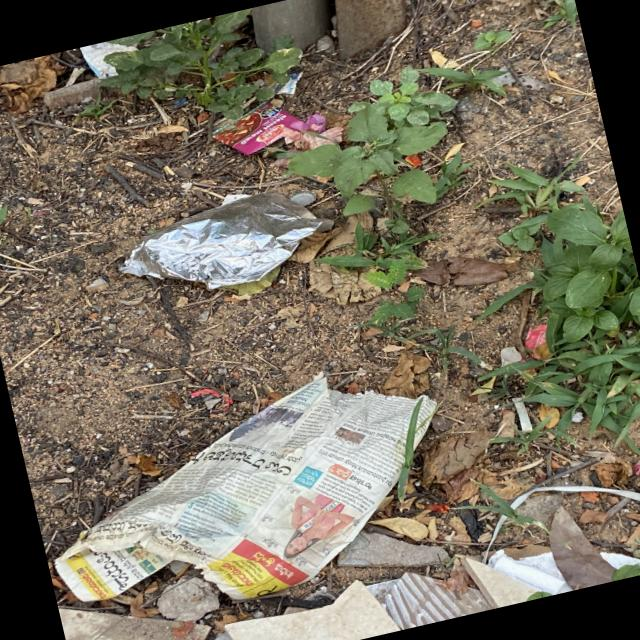giay: (54, 375, 417, 601)
giay_goi: (213, 100, 299, 154)
nhom: (119, 191, 322, 288)
nhua: (79, 41, 136, 77)
